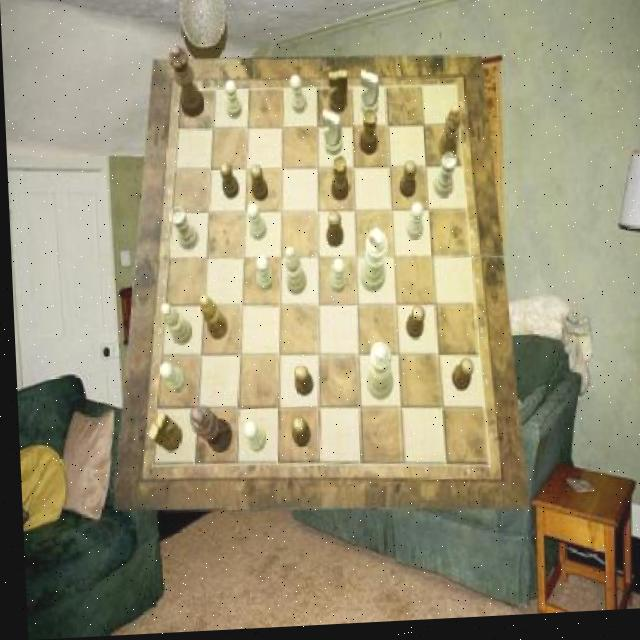bishop: (434, 109, 460, 165), (196, 296, 225, 343)
black-bishop: (186, 409, 230, 458)
black-king: (142, 412, 179, 455), (326, 74, 348, 117)
black-knight: (446, 363, 470, 398), (400, 309, 422, 344), (218, 163, 237, 201), (397, 165, 415, 204), (248, 168, 266, 205), (324, 216, 342, 251), (291, 368, 310, 401), (287, 419, 305, 452)
black-pawn: (168, 46, 204, 121)
black-queen: (356, 113, 377, 160), (329, 158, 349, 205)
black-rook: (158, 304, 189, 347), (281, 250, 303, 298)
white-bishop: (355, 232, 386, 297)
white-king: (321, 112, 342, 159), (358, 74, 378, 122)
white-knight: (156, 364, 183, 396), (239, 424, 263, 457), (244, 205, 264, 243), (403, 206, 421, 245), (289, 79, 306, 119), (252, 259, 271, 294), (223, 83, 240, 122), (325, 262, 343, 297)
white-pawn: (361, 346, 390, 405)
white-queen: (168, 208, 197, 253), (429, 157, 455, 204)
